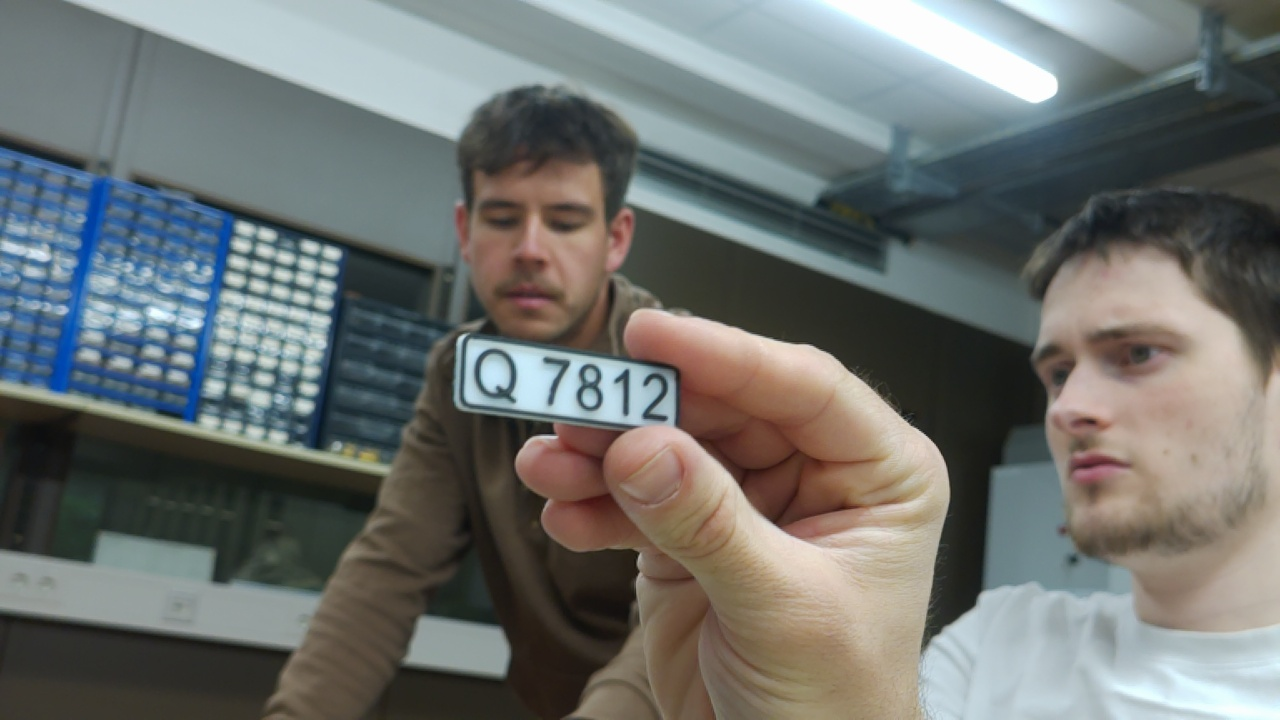license_plate: (441, 310, 684, 441)
